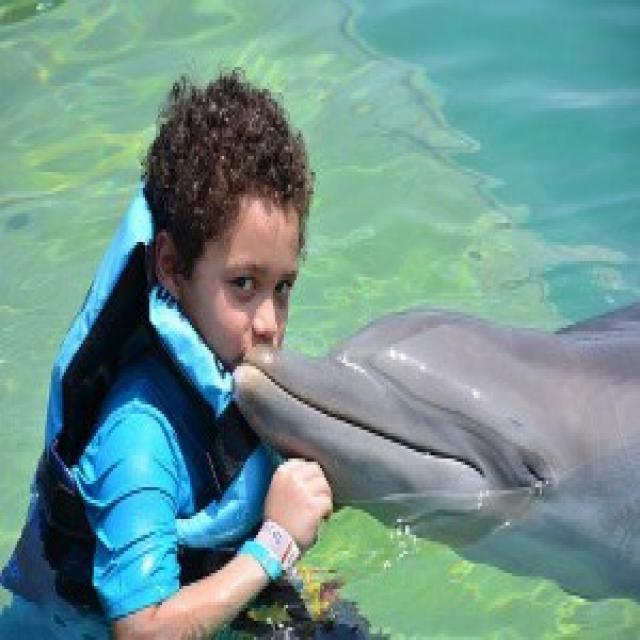Dolphin: (224, 282, 640, 630)
